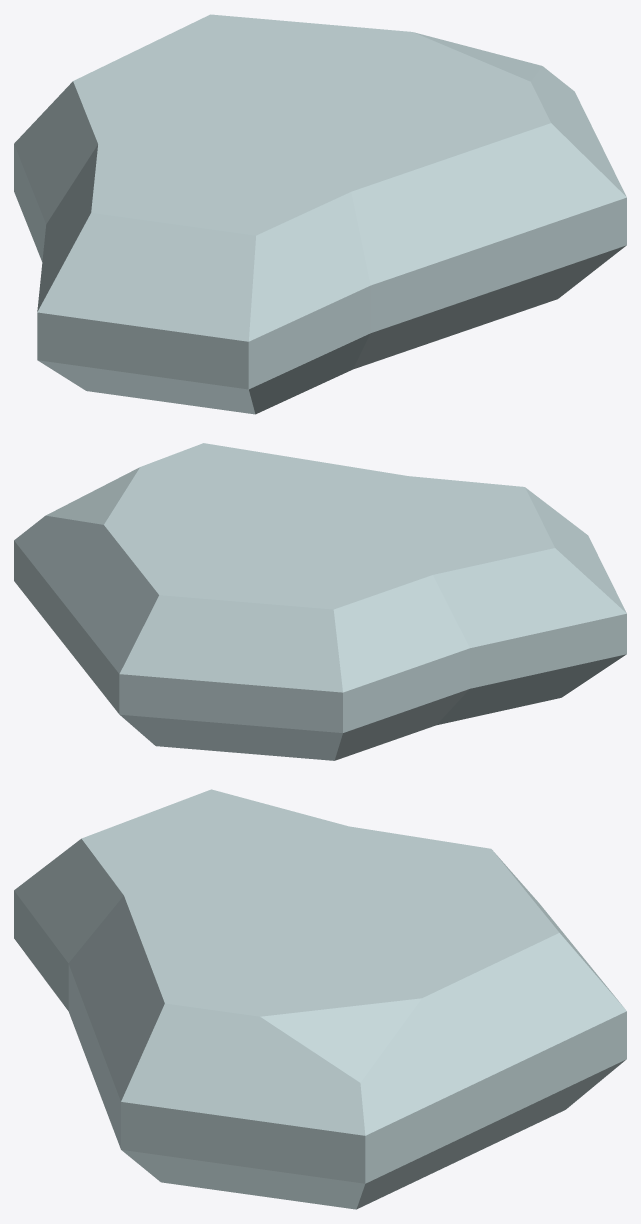
Rendered from stone_largeE.glb.
3 renders of one model, top to bottom at view 1: azimuth 30°, elevation 25°; view 2: azimuth 150°, elevation 25°; view 3: azimuth 270°, elevation 25°, orthographic. The views are drawn at different scales.
Visible parts, largest first — view 1: stone_largeE; view 2: stone_largeE; view 3: stone_largeE.
Part boxes in pixels (box(x1,y1,x2,y2)): stone_largeE: box(14, 14, 626, 414); stone_largeE: box(14, 443, 626, 760); stone_largeE: box(14, 789, 626, 1209).
Bounding box in the file's own units: 1.1 × 0.2922 × 0.9199.
